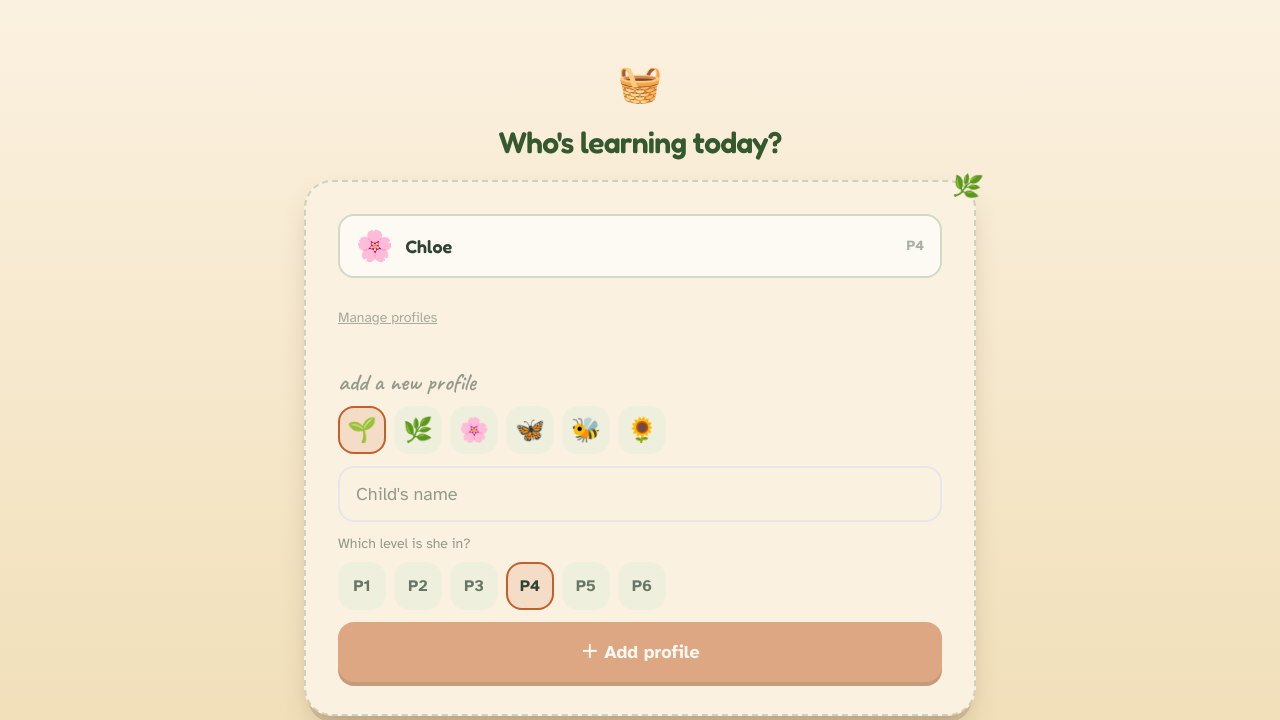
ChildPicker › regression: 'Reset PIN' resets a child's own profile-entry PIN back to the default, immediately (no separate confirm step needed since it's non-destructive)
This screenshot has width=1280, height=720.
Expected: the text "Chloe" is shown, [405, 232, 452, 260]
Step 1. Click the button "Manage profiles" → point(388, 318), box [338, 294, 437, 342]
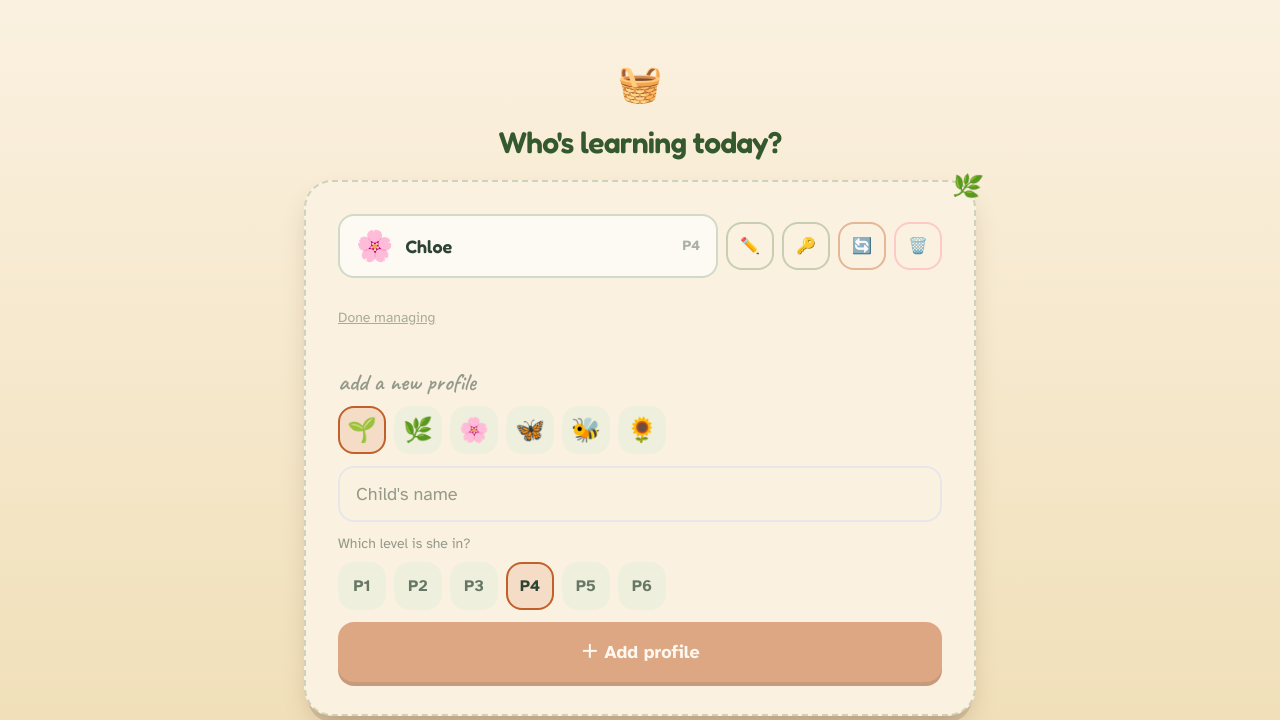
Step 2. Click the button named "reset pin for chloe" → point(806, 246), box [782, 222, 830, 270]
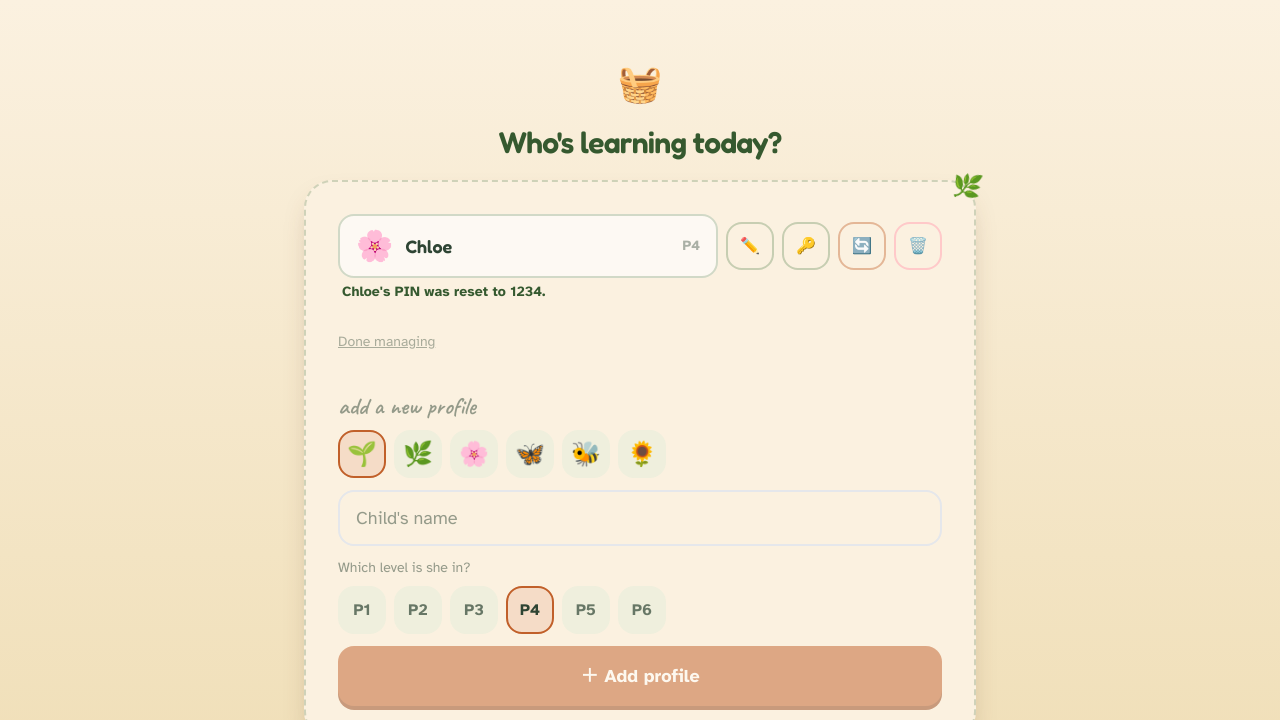
Expected: the text "Chloe's PIN was reset to 1234." is shown, [342, 283, 545, 300]
